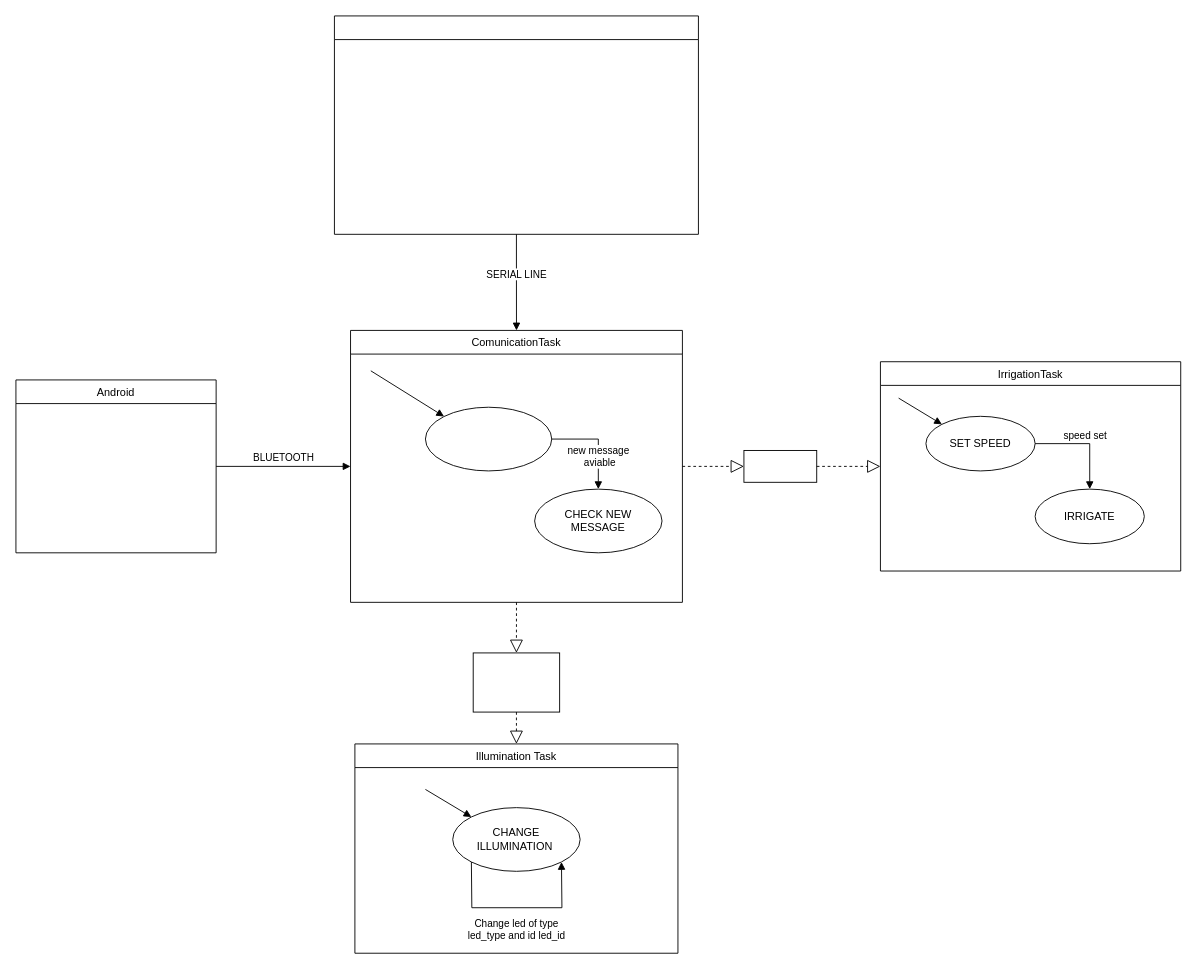
Some shapes in this 1197 by 969 pixel diagram are drawn without their labels. The shapes that lost their labels are listed below. From the top down, each one's box as (x1, y1, x2, y2) in pixels, then its label:
(334, 15, 698, 234): Java
(425, 406, 552, 471): EVALUATE MESSAGE
(743, 450, 817, 482): int value
(472, 652, 560, 712): String led_type int led_id int value
